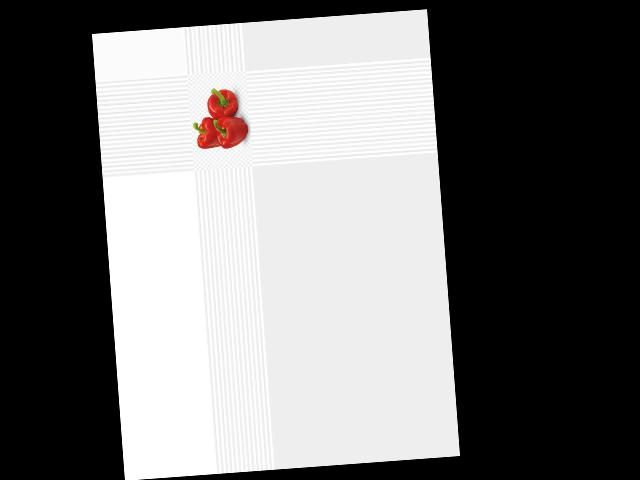bell_pepper: (202, 84, 241, 123)
